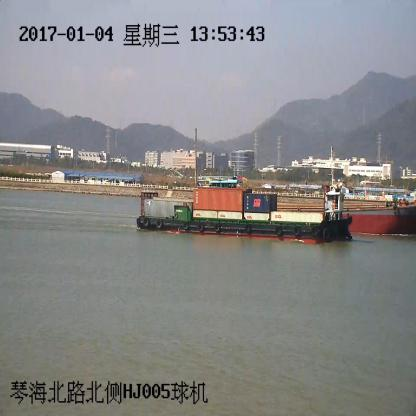Container Ship: (137, 187, 352, 240)
